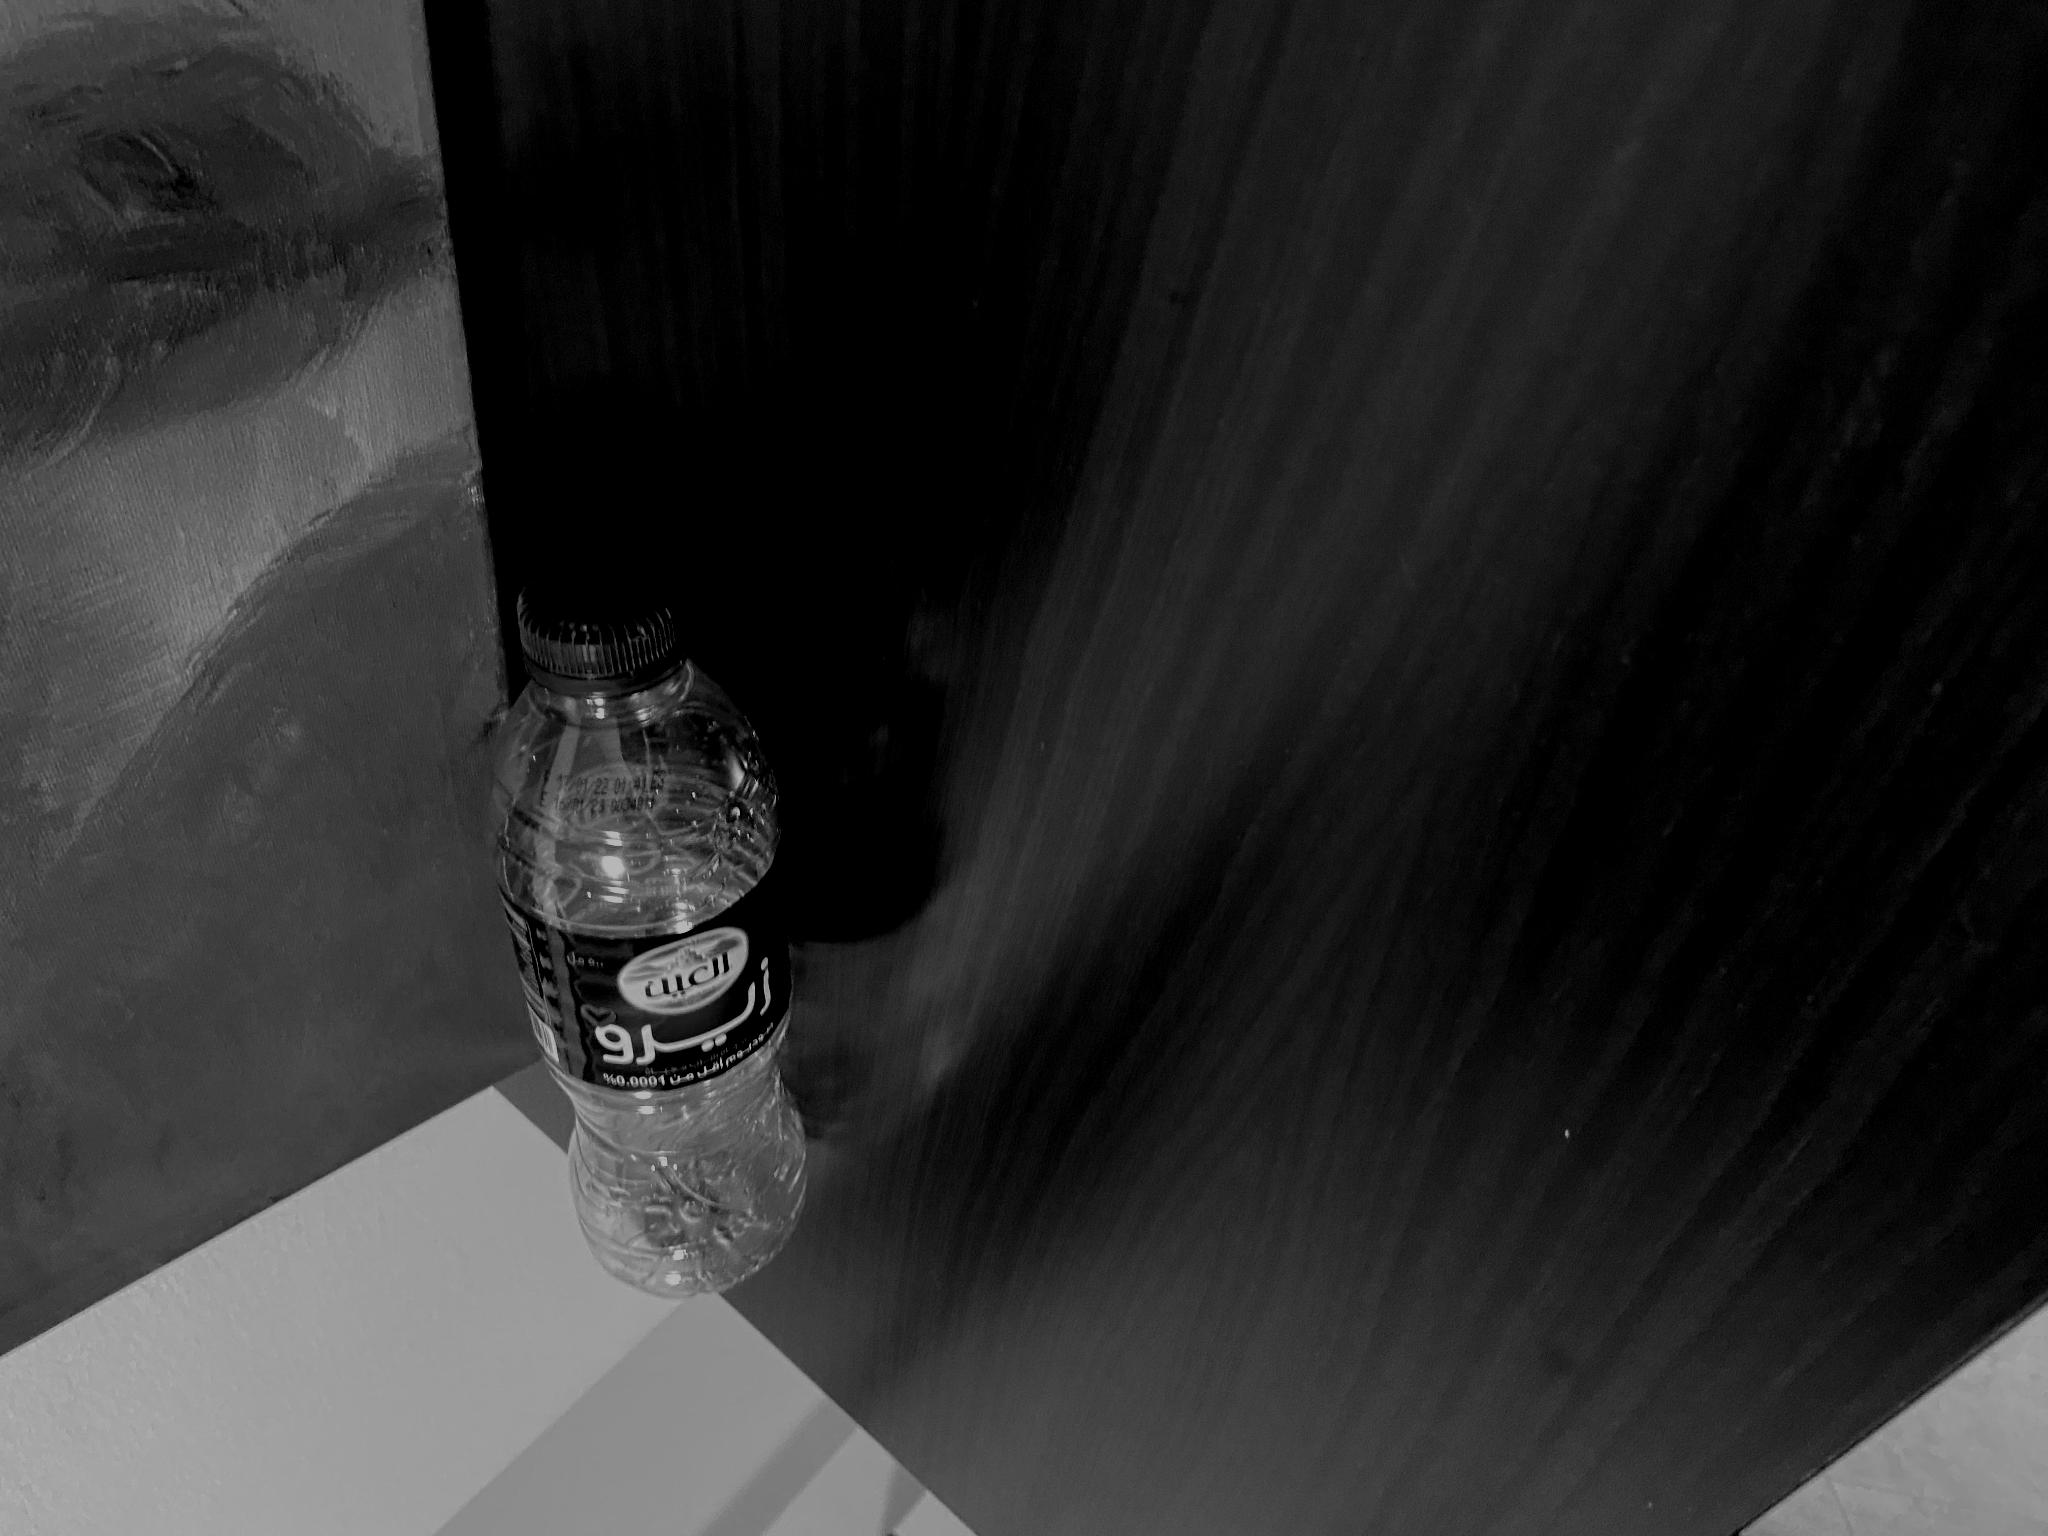bottle: (456, 570, 848, 1309)
